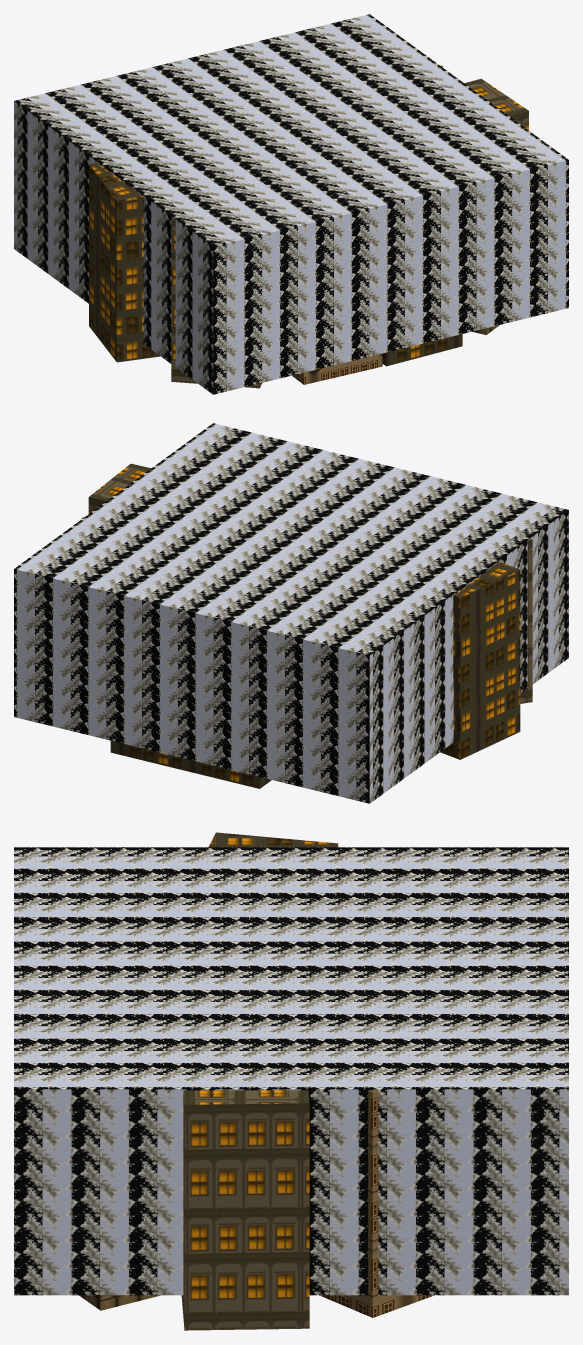
The model's file is Start_brush.glb.
3 renders of one model, top to bottom at view 1: azimuth 30°, elevation 25°; view 2: azimuth 150°, elevation 25°; view 3: azimuth 270°, elevation 25°, orthographic. The views are drawn at different scales.
Parts seen in each view (by area): view 1: Start; view 2: Start; view 3: Start.
Boxes of the visible parts, <box> form: Start: <box>14,14,568,394</box>; Start: <box>14,423,568,803</box>; Start: <box>14,832,568,1330</box>.
Bounding box in the file's own units: 2874 × 1116 × 2474.
Materials: 12 (12 with a texture image).
